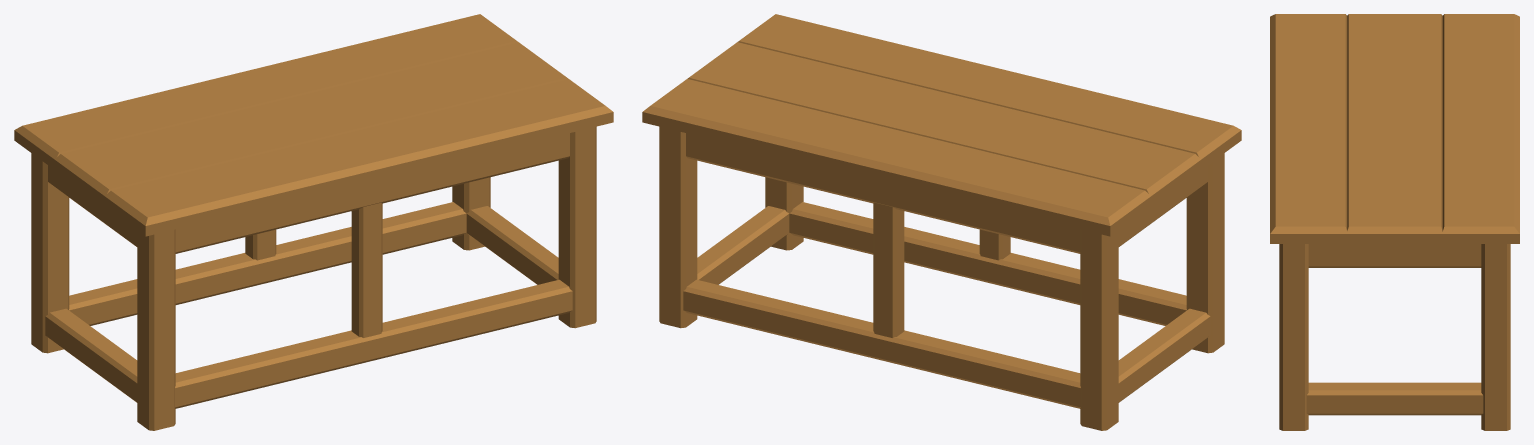
Rendered from SM_Furniture_PrepCounter_Honey_01.fbx.
The picture shows the model from 3 angles, left to right: view 1: azimuth 30°, elevation 25°; view 2: azimuth 150°, elevation 25°; view 3: azimuth 270°, elevation 25°; orthographic projection. The views are drawn at different scales.
Visible parts, largest first — view 1: SM_Furniture_PrepCounter_Honey_01; view 2: SM_Furniture_PrepCounter_Honey_01; view 3: SM_Furniture_PrepCounter_Honey_01.
Part boxes in pixels (box(x1,y1,x2,y2)): SM_Furniture_PrepCounter_Honey_01: box(14, 14, 613, 430); SM_Furniture_PrepCounter_Honey_01: box(642, 14, 1241, 430); SM_Furniture_PrepCounter_Honey_01: box(1270, 14, 1519, 430).
Bounding box in the file's own units: 1.4 × 0.62 × 0.68.
Materials: 1 (1 with a texture image).
